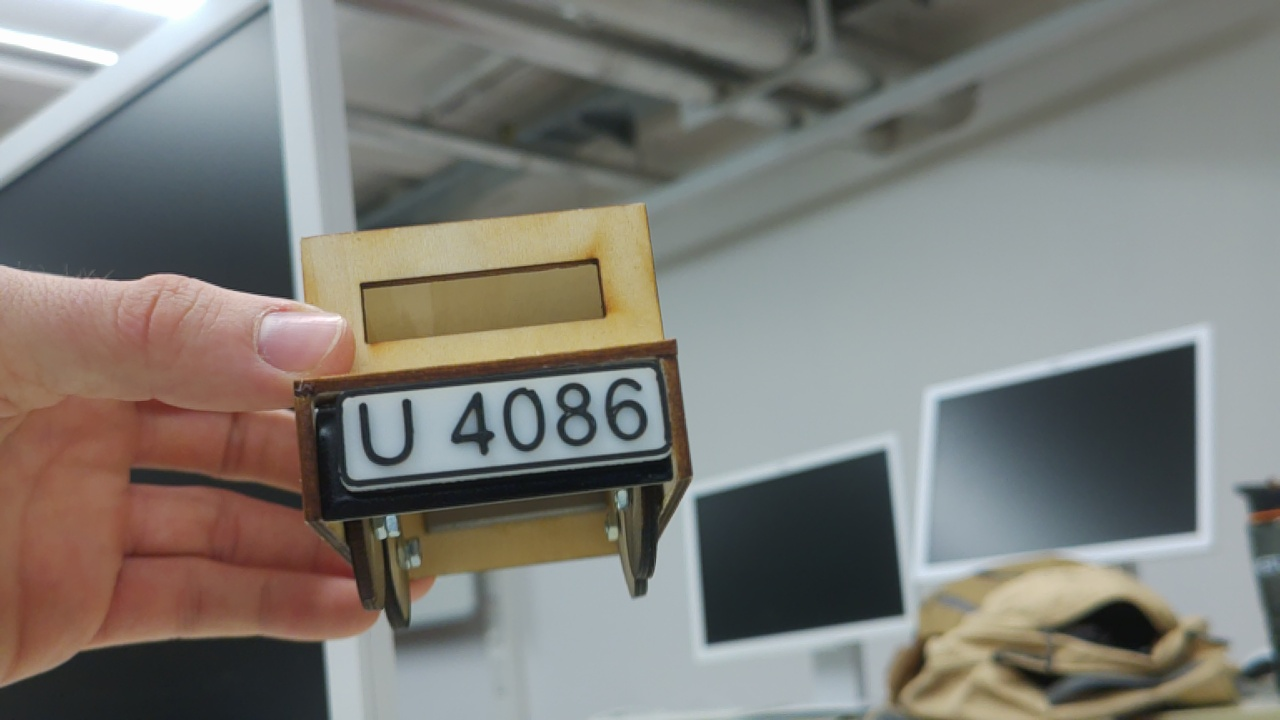license_plate: (321, 357, 688, 499)
